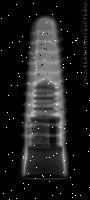Camlog: (15, 12, 70, 179)
